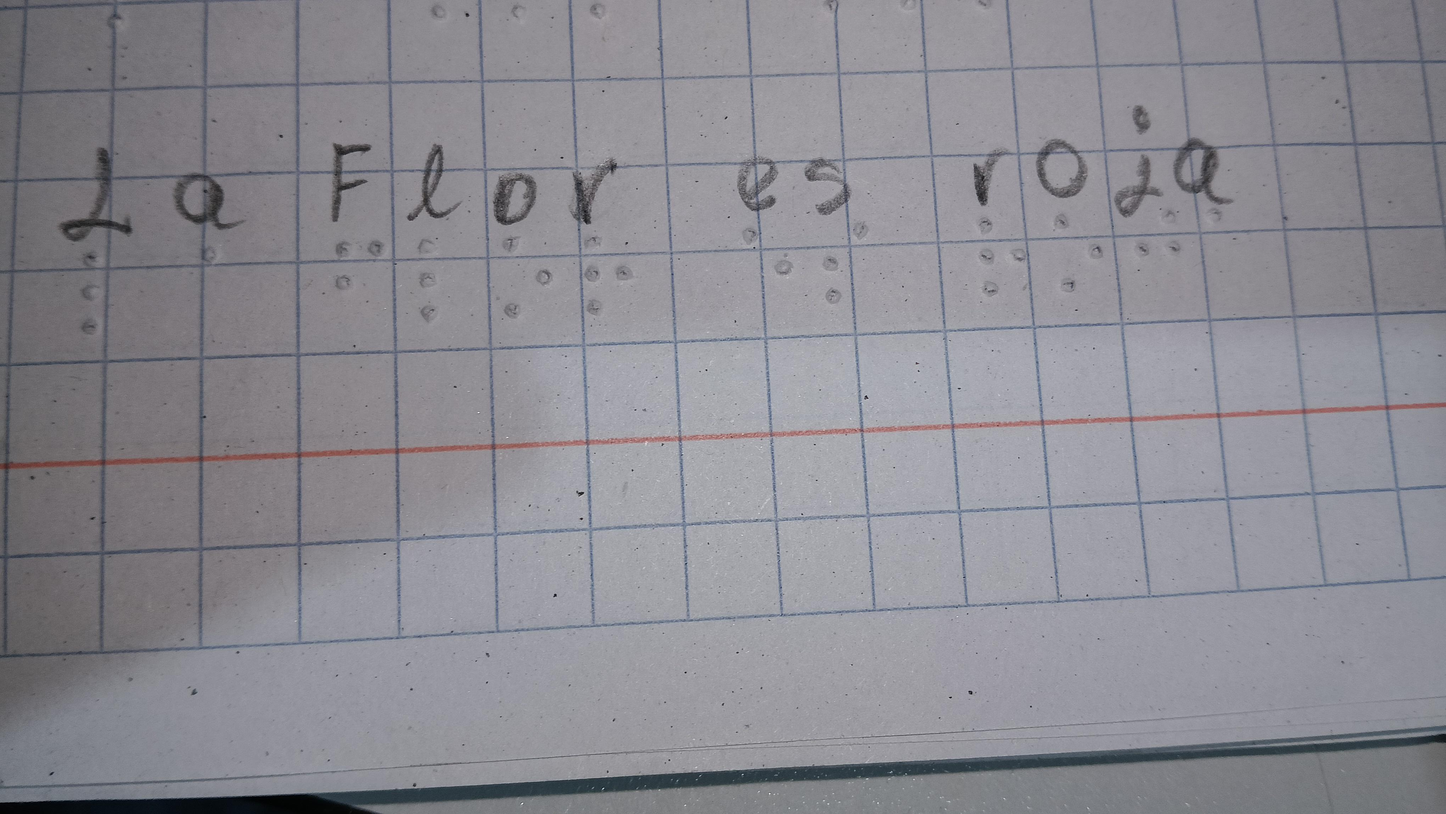a: (183, 243, 243, 282), (1196, 193, 1239, 234)
e: (723, 220, 812, 298)
f: (317, 236, 397, 291)
j: (1129, 200, 1196, 266)
l: (64, 241, 119, 342), (399, 234, 454, 328)
o: (1042, 206, 1113, 303), (484, 229, 553, 317)
r: (957, 207, 1040, 301), (564, 230, 643, 323)
s: (813, 223, 874, 303)
